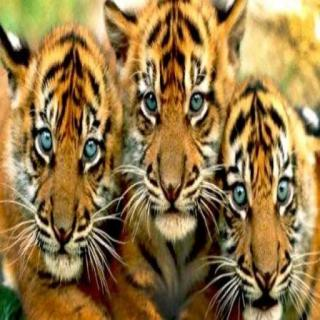Tiger: (93, 1, 239, 253), (4, 19, 122, 315), (211, 70, 320, 314)
